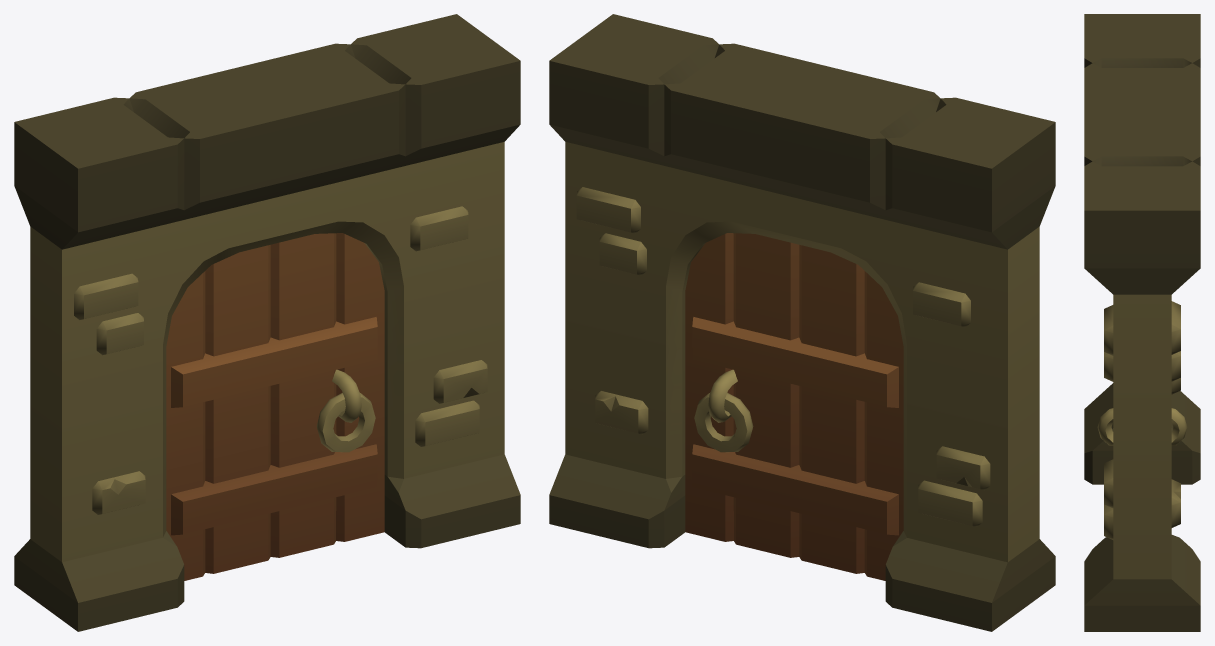
The model's file is wall_doorway.glb.
3 views of the same model, side by side, from view 1: azimuth 30°, elevation 25°; view 2: azimuth 150°, elevation 25°; view 3: azimuth 270°, elevation 25° (orthographic). The views are drawn at different scales.
Parts seen in each view (by area): view 1: wall_doorway, wall_doorway_door; view 2: wall_doorway, wall_doorway_door; view 3: wall_doorway, wall_doorway_door.
Boxes of the visible parts, x1=… form: wall_doorway: x1=14, y1=14, x2=520, y2=631; wall_doorway_door: x1=166, y1=233, x2=384, y2=580; wall_doorway: x1=549, y1=14, x2=1055, y2=631; wall_doorway_door: x1=685, y1=233, x2=903, y2=580; wall_doorway: x1=1084, y1=14, x2=1200, y2=631; wall_doorway_door: x1=1097, y1=408, x2=1187, y2=445.
Size of the model in its own units: 4 by 4 by 1.
1 material, 1 textured.
